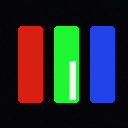4 line_v: (69, 61, 75, 99)
